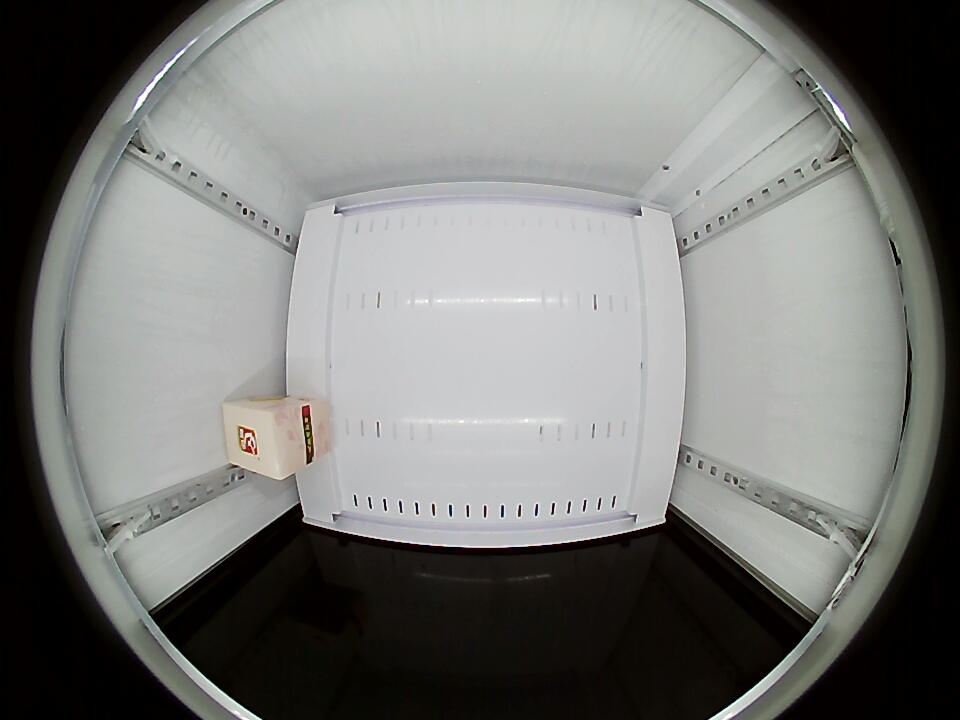rousongbing: (223, 397, 307, 481)
